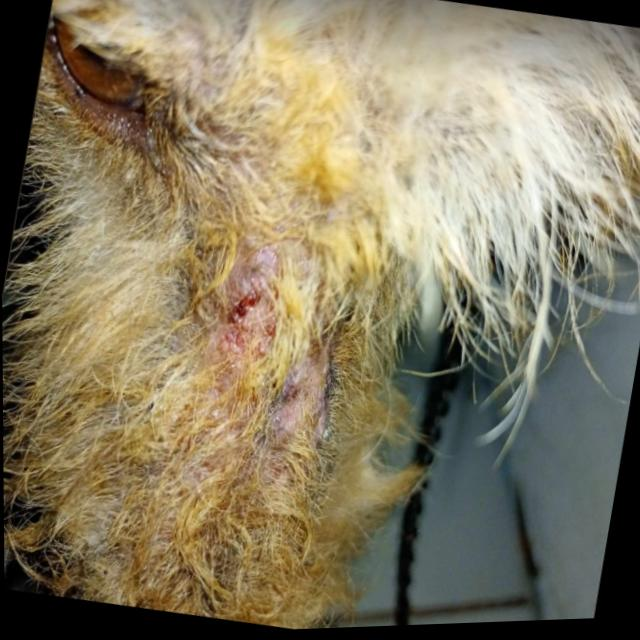demodicosis: (174, 228, 346, 435)
